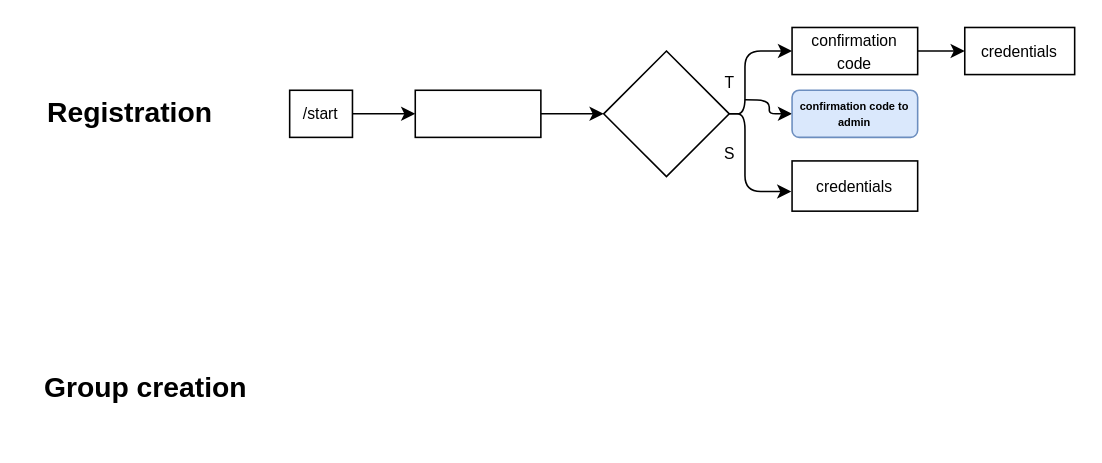
This 1102x463 diagram has some shape labels left out. Each missing label, with the box of its shape:
/registration: (414, 89, 541, 137)
S or T?: (602, 49, 729, 177)
